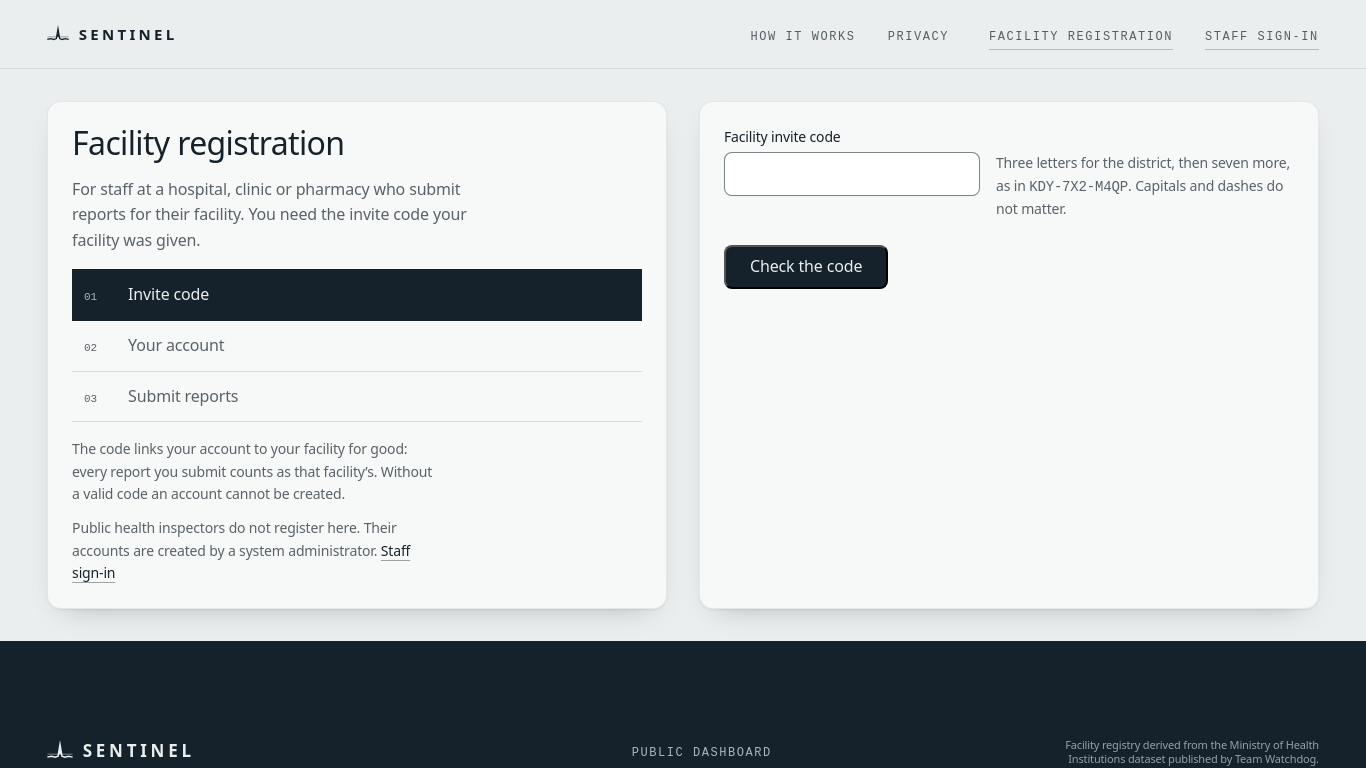
Test: RegisterPage › names the facility a code belongs to before asking for a password
Type "KDY-7X2-M4QP" into the field labelled "Facility invite code". click: (852, 174)
box: [724,152,980,196]
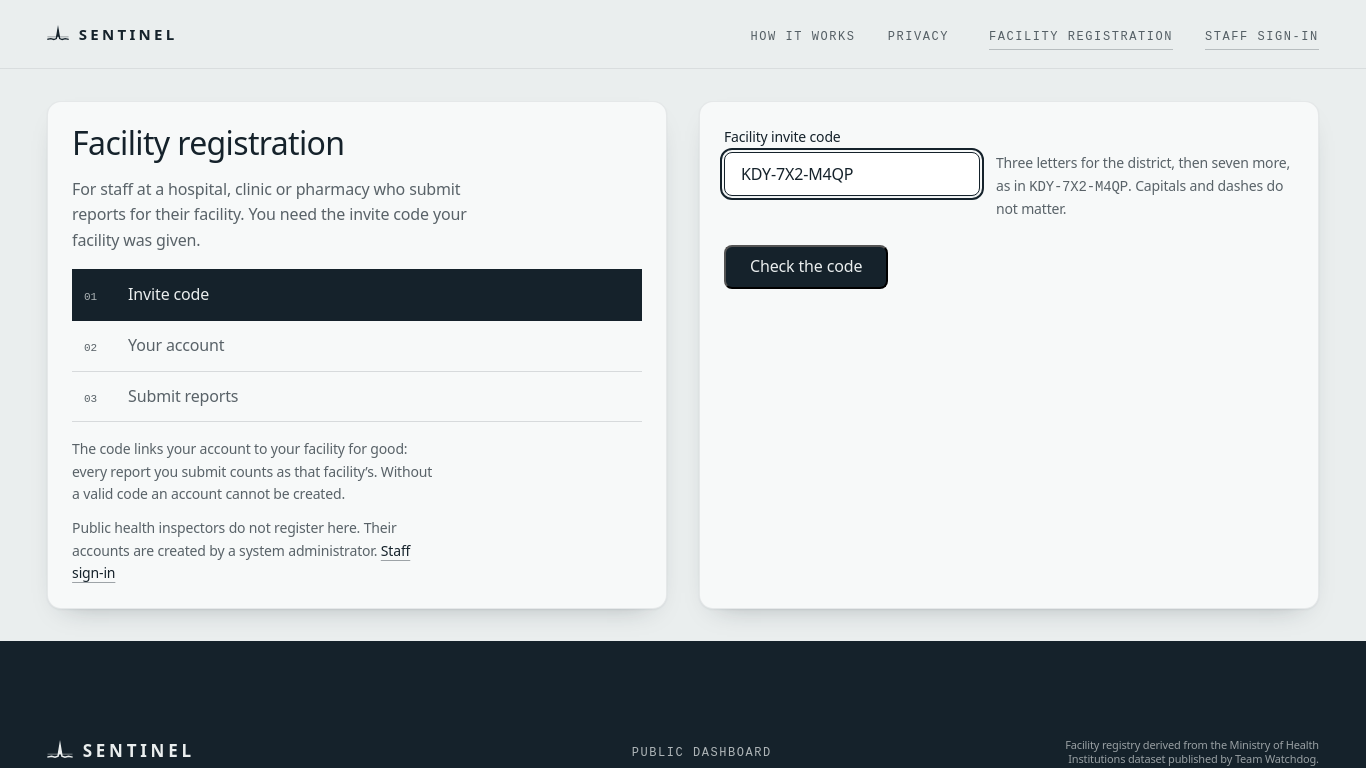
Click the button "Check the code". click: click(806, 267)
box: [724,245,888,289]
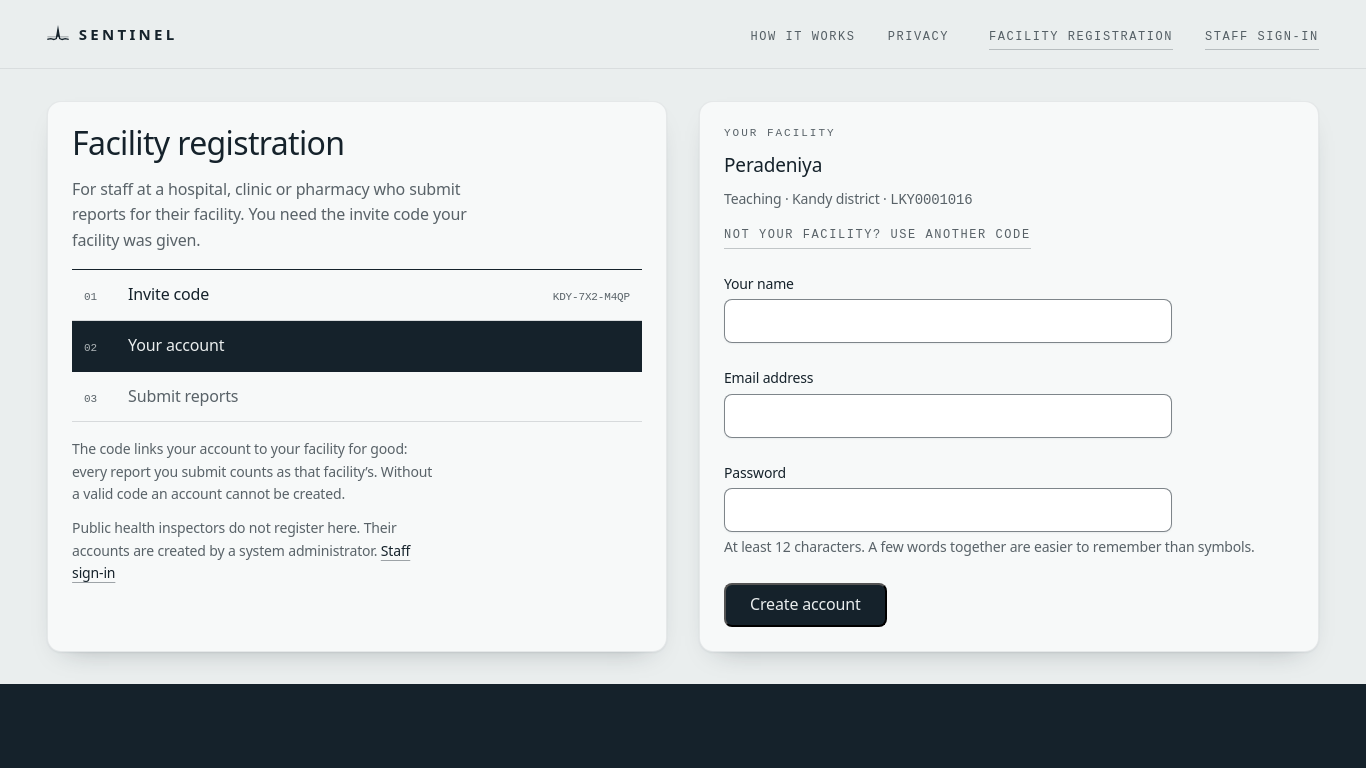
Expected: the text "Peradeniya" is shown, [724,152,822,178]
Expected: the text "Teaching · Kandy district · LKY0001016" is shown, [724,189,973,208]
